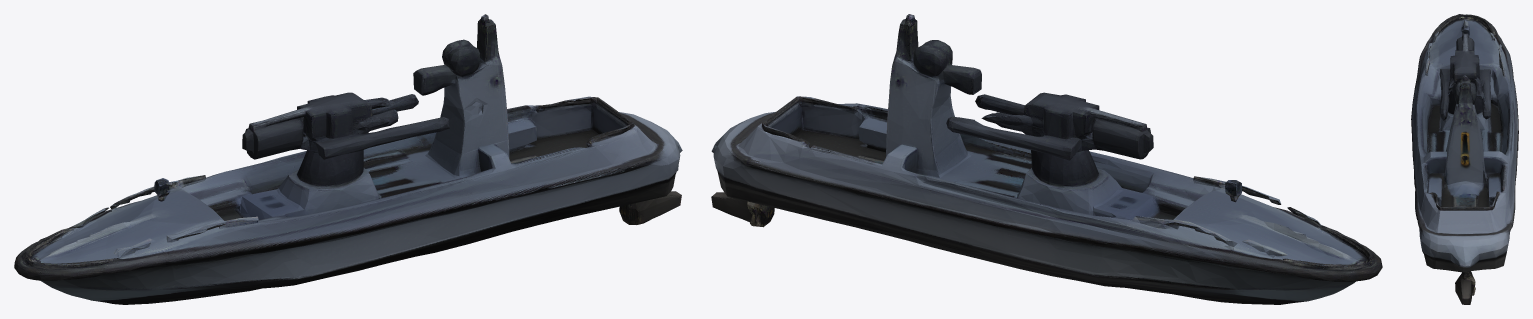
Rendered from düşman_ida67.glb.
3 views of the same model, side by side, from view 1: azimuth 30°, elevation 25°; view 2: azimuth 150°, elevation 25°; view 3: azimuth 270°, elevation 25° (orthographic). The views are drawn at different scales.
Visible parts, largest first — view 1: world; view 2: world; view 3: world.
Boxes of the visible parts, <box> form: world: <box>14,14,682,304</box>; world: <box>711,14,1382,304</box>; world: <box>1411,14,1518,304</box>.
Size of the model in its own units: 0.9979 by 0.3502 by 0.2027.
Materials: 1 (1 with a texture image).
